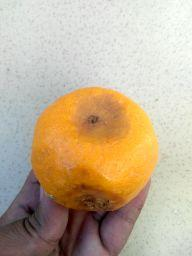Unripe: (32, 87, 160, 211)
